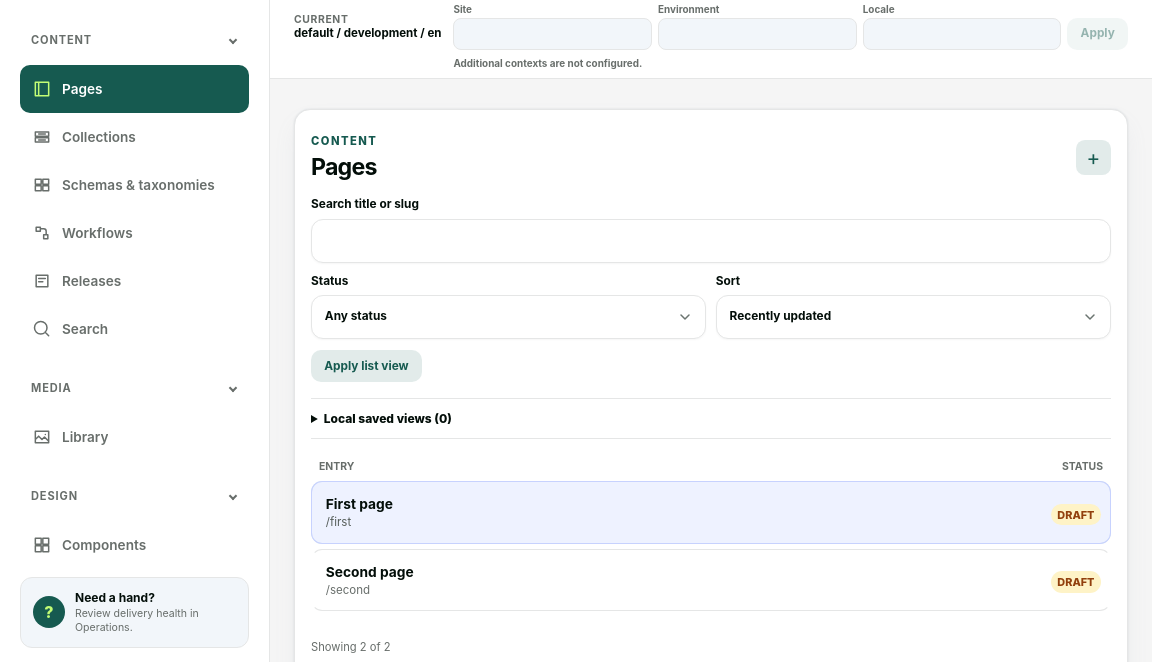
Test: GridStory Studio › respects the navigation focus owner when deferred Pages navigation completes (BUG-0441)
The image size is (1152, 662).
Click the button "Library": (134, 437) [20, 413, 249, 461]
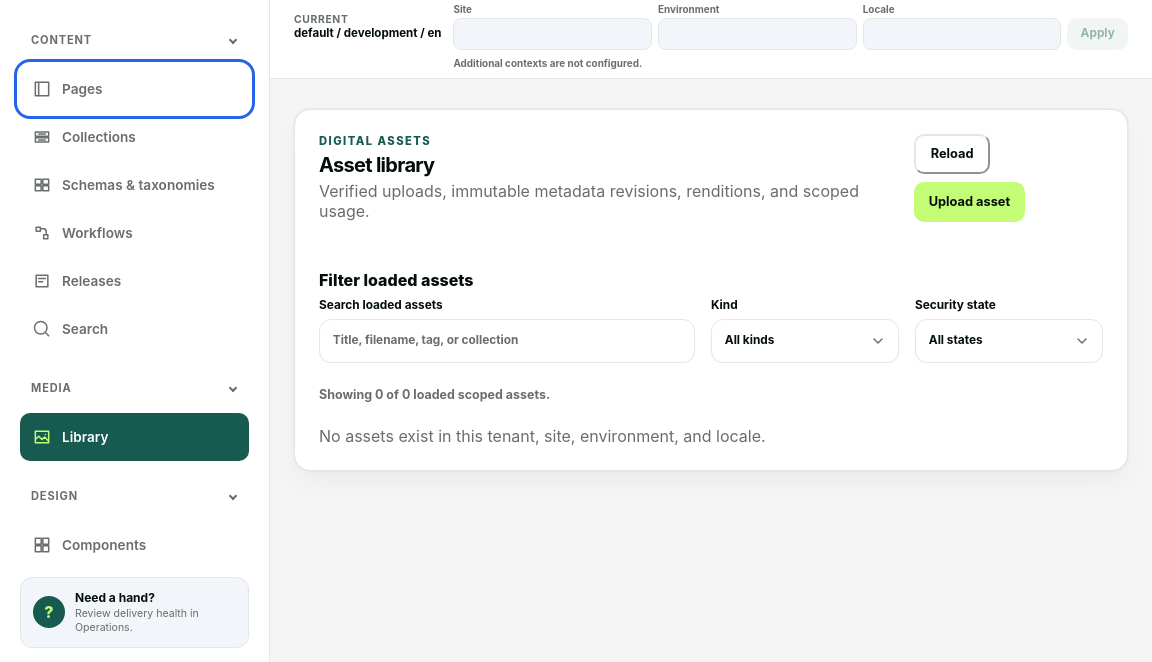
Press Enter
(page scrolled)
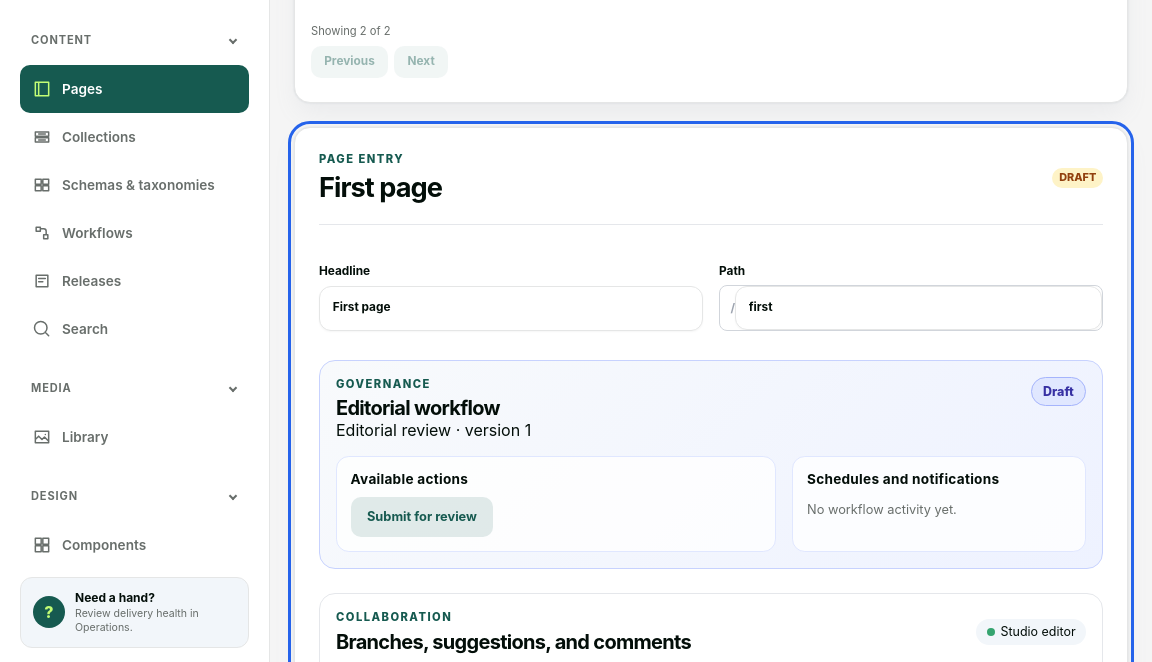
Expected: the field labelled "Headline" is shown, [319, 286, 703, 331]
